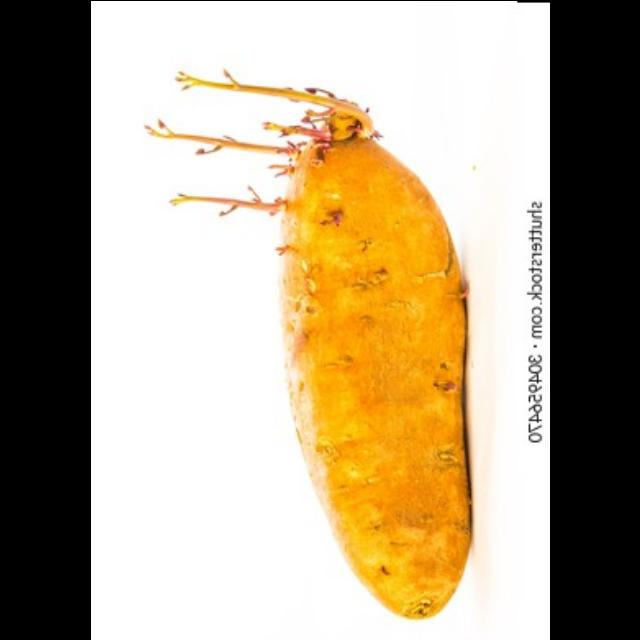Sprouted potato: (160, 72, 482, 630)
